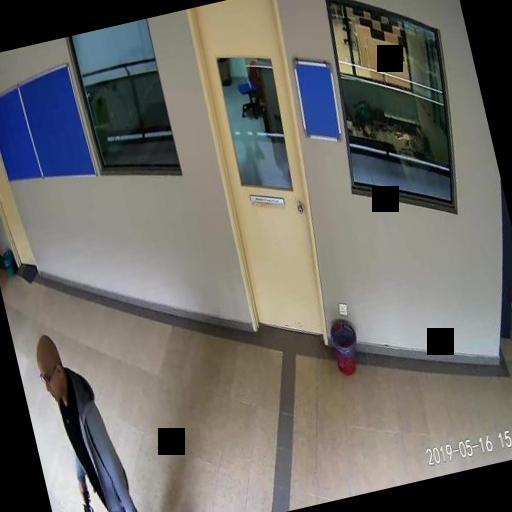Handgun: (78, 488, 102, 512)
